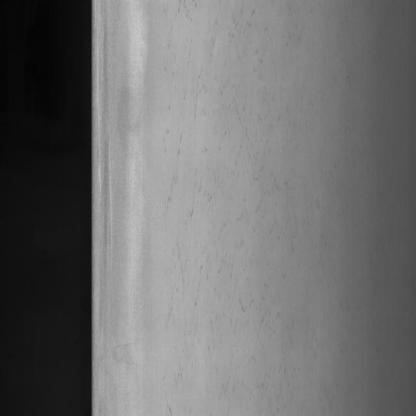silk_spot: (159, 0, 273, 382)
